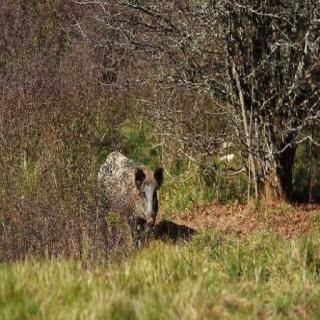Pig: (90, 124, 170, 244)
